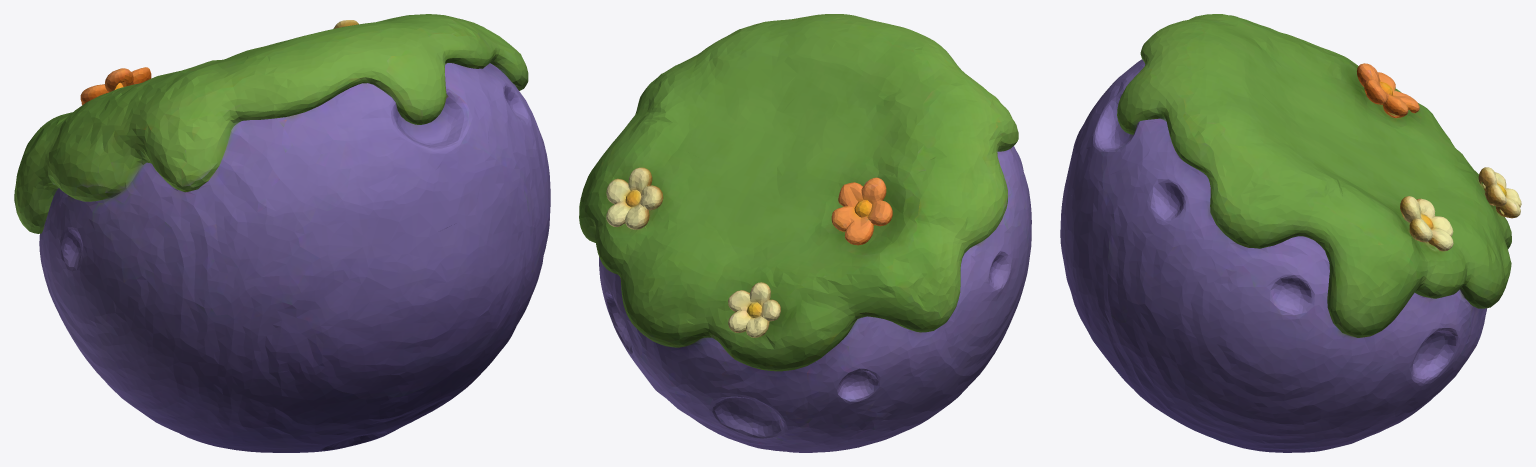
The model's file is planet_home.glb.
3 renders of one model, left to right at view 1: azimuth 30°, elevation 25°; view 2: azimuth 150°, elevation 25°; view 3: azimuth 270°, elevation 25°, orthographic. The views are drawn at different scales.
Parts seen in each view (by area): view 1: geometry_0; view 2: geometry_0; view 3: geometry_0.
Part boxes in pixels (x1,y1,x2,y2): geometry_0: (14, 14, 550, 452); geometry_0: (579, 14, 1031, 452); geometry_0: (1060, 14, 1521, 452).
Bounding box in the file's own units: 0.8091 × 0.7544 × 0.8269.
1 material, 1 textured.
